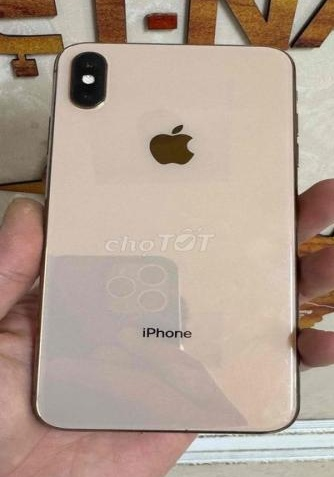scratch: (263, 402, 305, 428), (277, 356, 297, 371)
